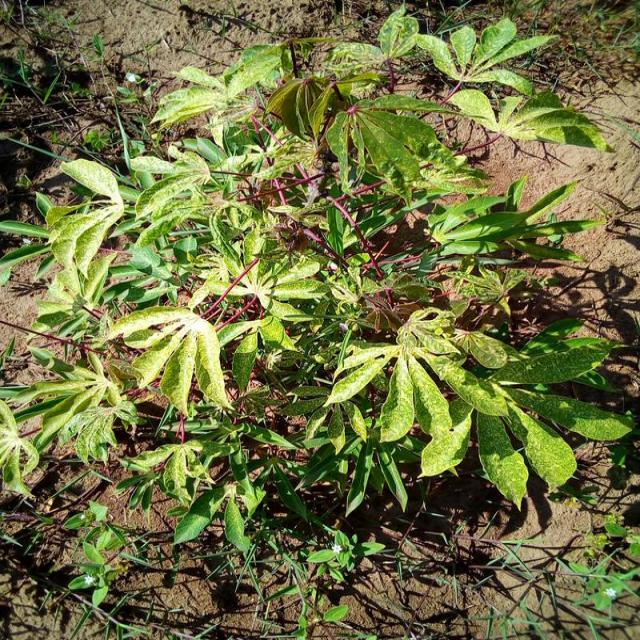cassava leaf: (2, 8, 636, 559), (101, 304, 232, 419)
